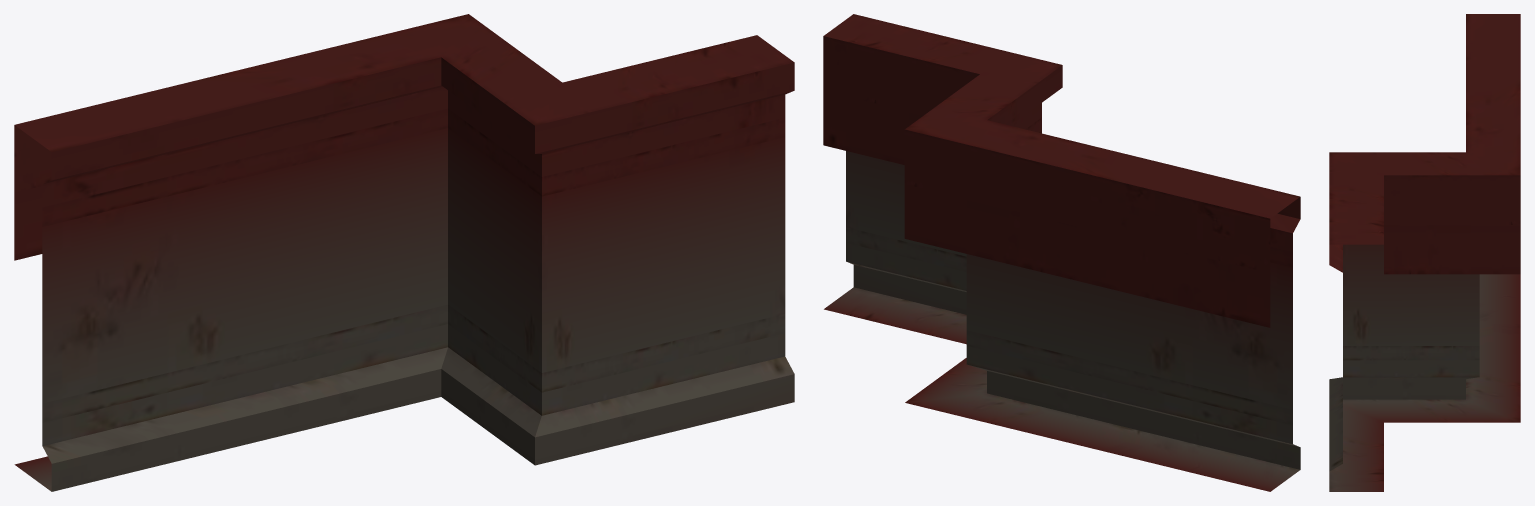
Rendered from Cornice_Metal_90Angle_R.glb.
3 renders of one model, left to right at view 1: azimuth 30°, elevation 25°; view 2: azimuth 150°, elevation 25°; view 3: azimuth 270°, elevation 25°, orthographic. The views are drawn at different scales.
Visible parts, largest first — view 1: Cornice_Metal_90Angle_R; view 2: Cornice_Metal_90Angle_R; view 3: Cornice_Metal_90Angle_R.
Boxes of the visible parts, bbox=[...] form: Cornice_Metal_90Angle_R: bbox=[14, 14, 794, 491]; Cornice_Metal_90Angle_R: bbox=[823, 14, 1300, 491]; Cornice_Metal_90Angle_R: bbox=[1329, 14, 1520, 491].
Size of the model in its own units: 2 by 1 by 0.7.
Materials: 1 (1 with a texture image).
